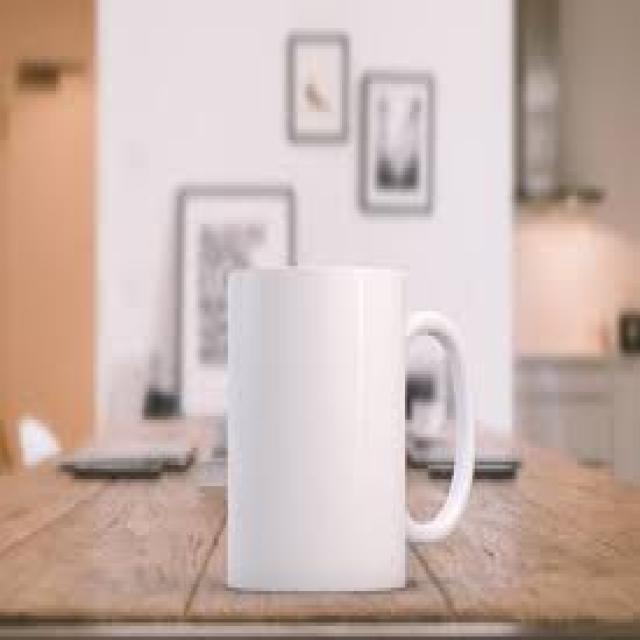taza: (200, 246, 480, 598)
